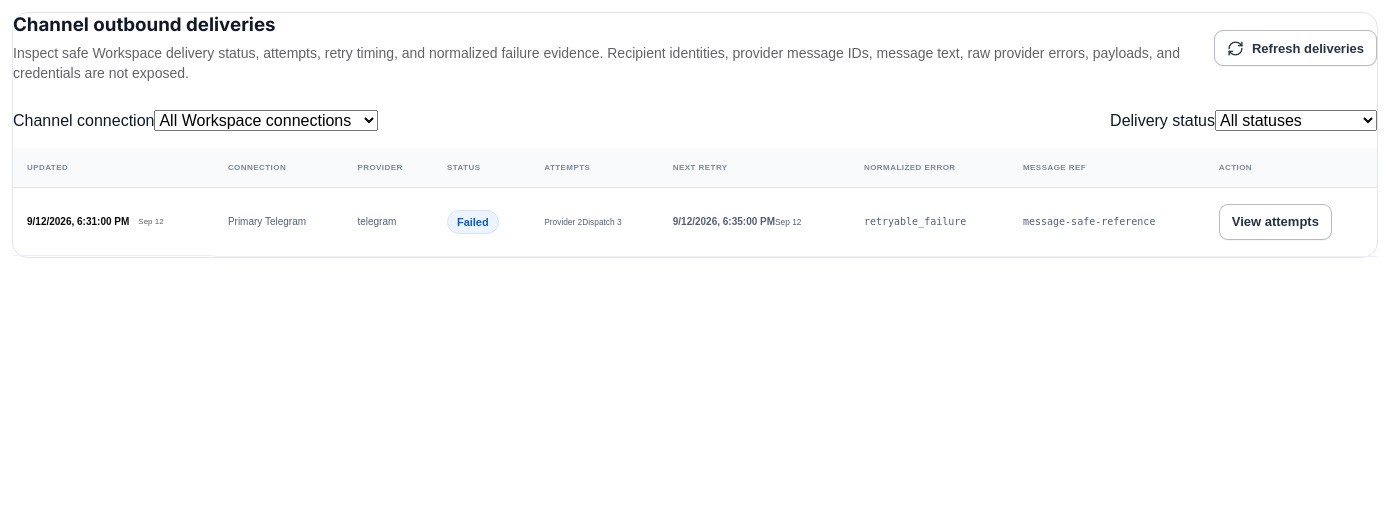
Test: ChannelOutboundDeliveriesPanel › loads safe attempt history only after the selected delivery is opened
expect the text "message-safe-reference" is shown: met, box [1023,216,1156,227]
Click the button "View attempts".
click(1275, 222)  # box [1219,204,1332,240]
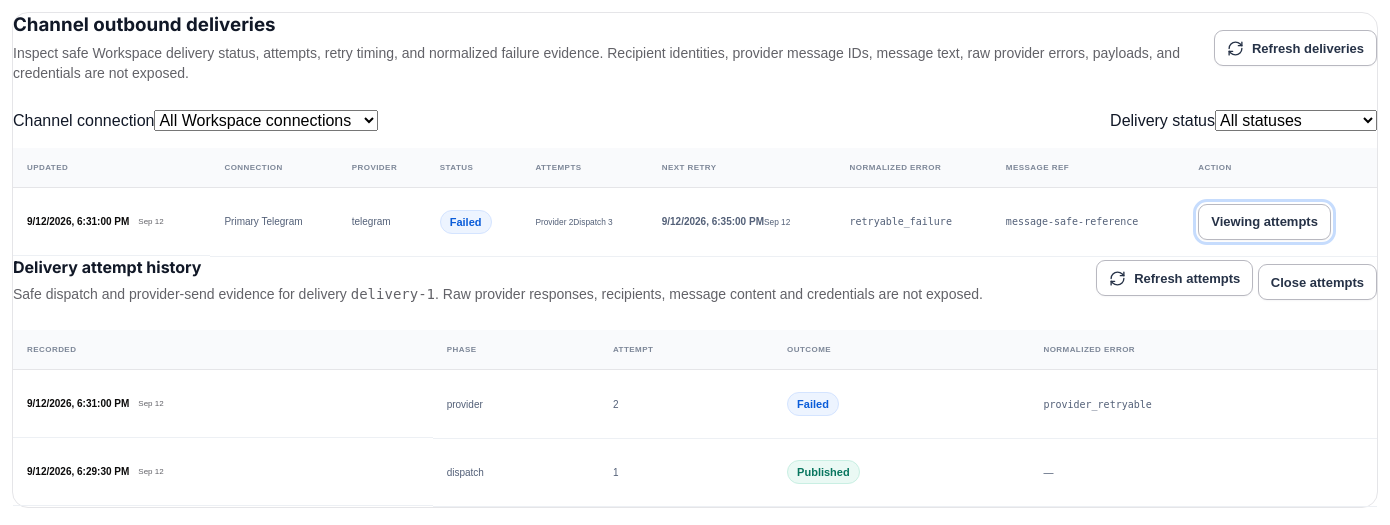
expect the heading "Delivery attempt history" is shown: met, box [13,257,202,277]
expect the text "provider_retryable" is shown: met, box [1043,399,1152,410]
expect the text "published" is shown: met, box [787,460,860,484]
Click the button "Close attempts".
click(1317, 282)  # box [1258,264,1377,300]
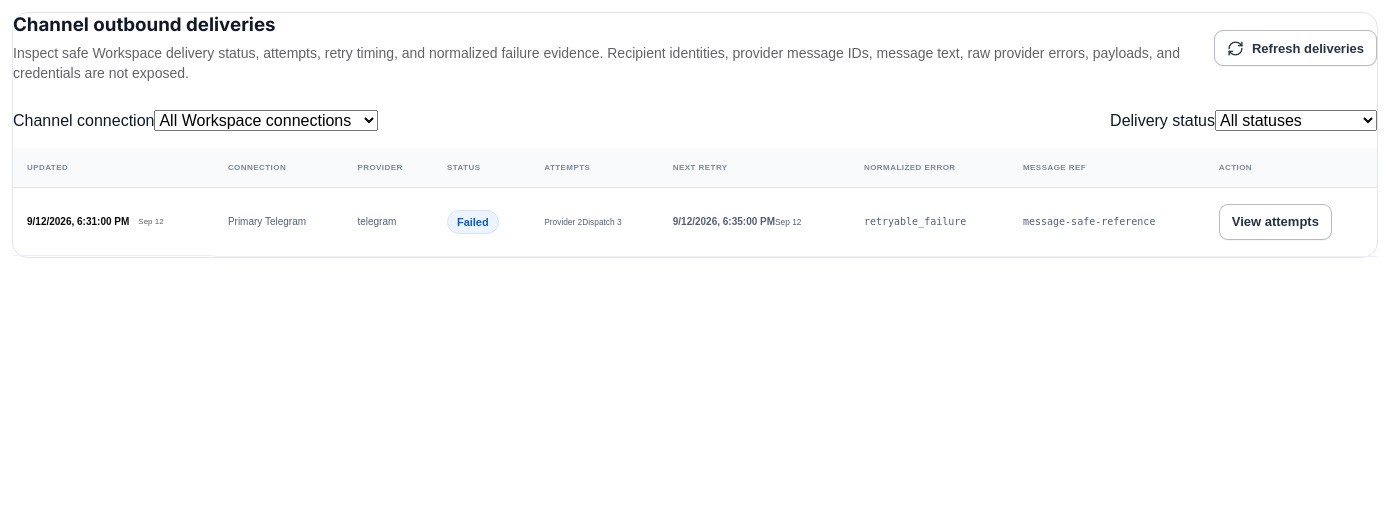
expect the heading "Delivery attempt history" is gone: met
